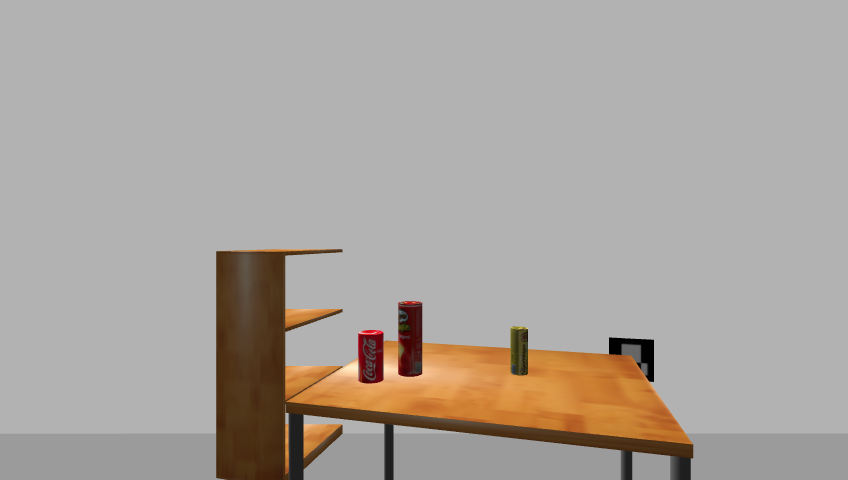aruco marker: (605, 335, 658, 385)
biscuits pack: (509, 326, 529, 377)
bookshelf: (211, 246, 349, 480)
coke can: (356, 330, 385, 384)
dinner table: (282, 340, 702, 480)
pringles can: (397, 301, 424, 378)
